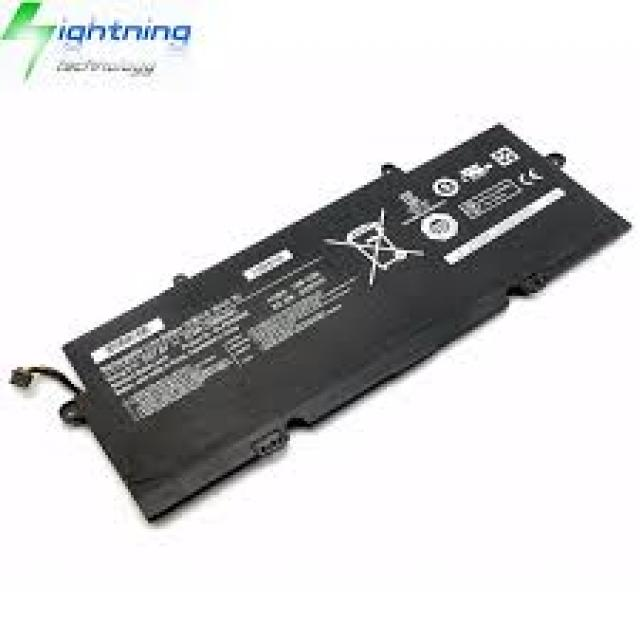non-organic waste: (12, 124, 640, 526)
